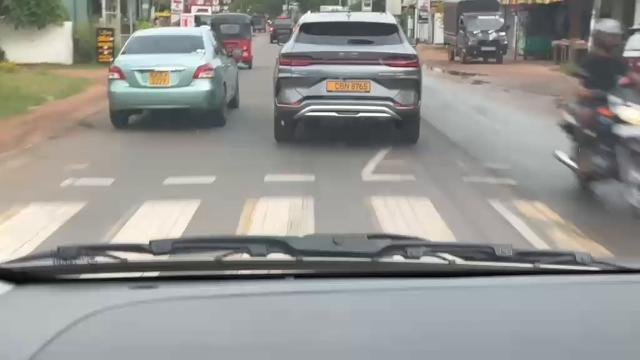number plate: (323, 79, 375, 98)
